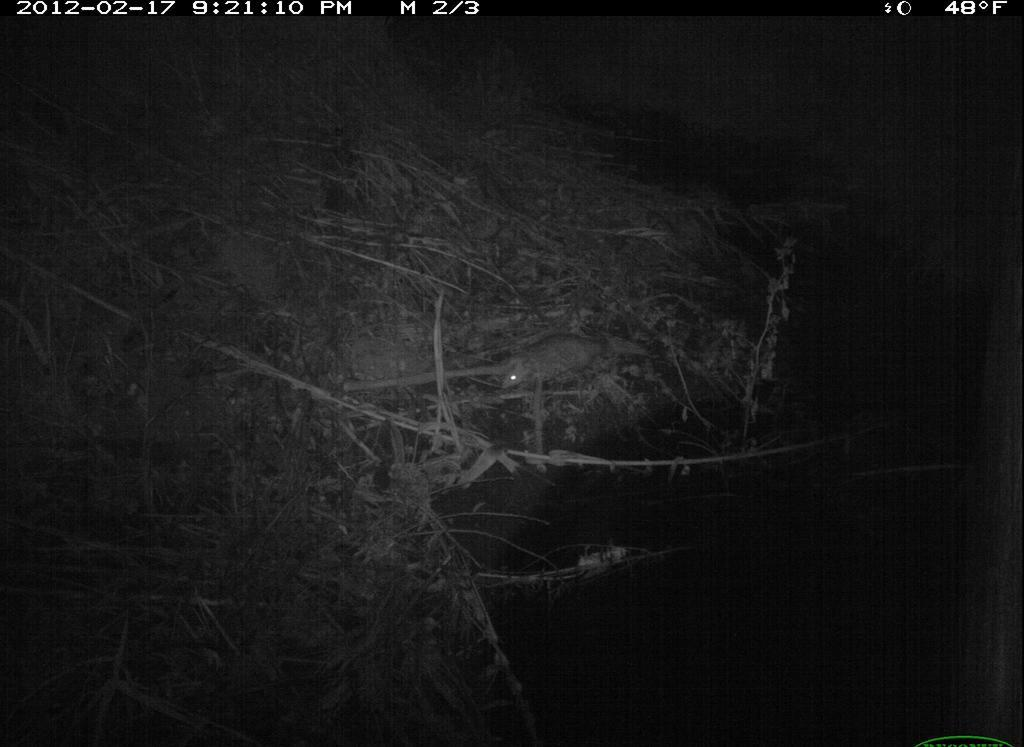opossum: (492, 327, 621, 414)
